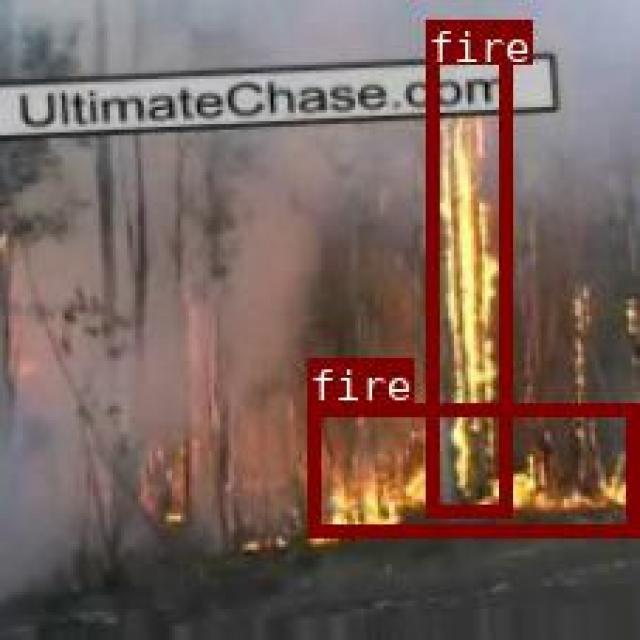fire: (305, 400, 634, 533), (424, 19, 508, 516)
